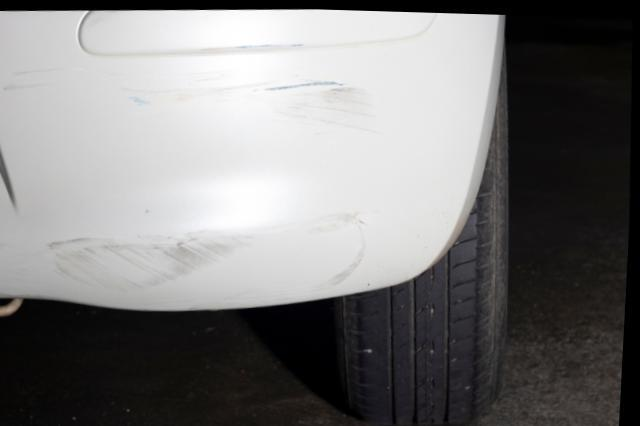scratch: (0, 207, 369, 308), (1, 67, 382, 133)
